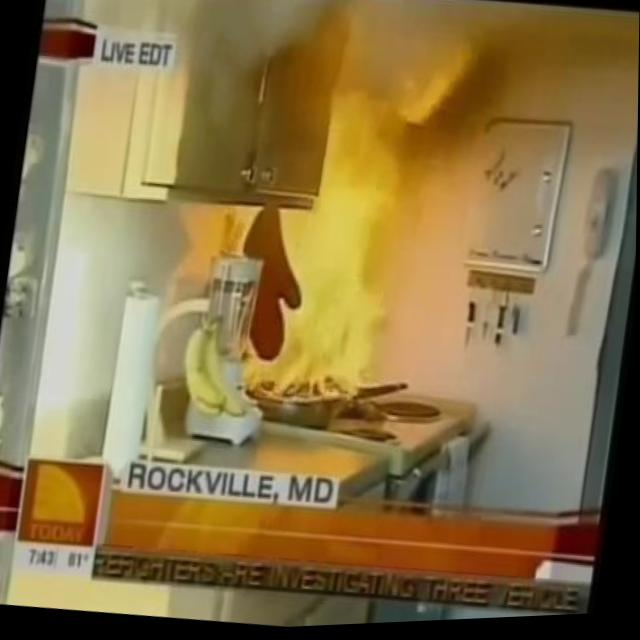fire: (232, 49, 438, 415)
